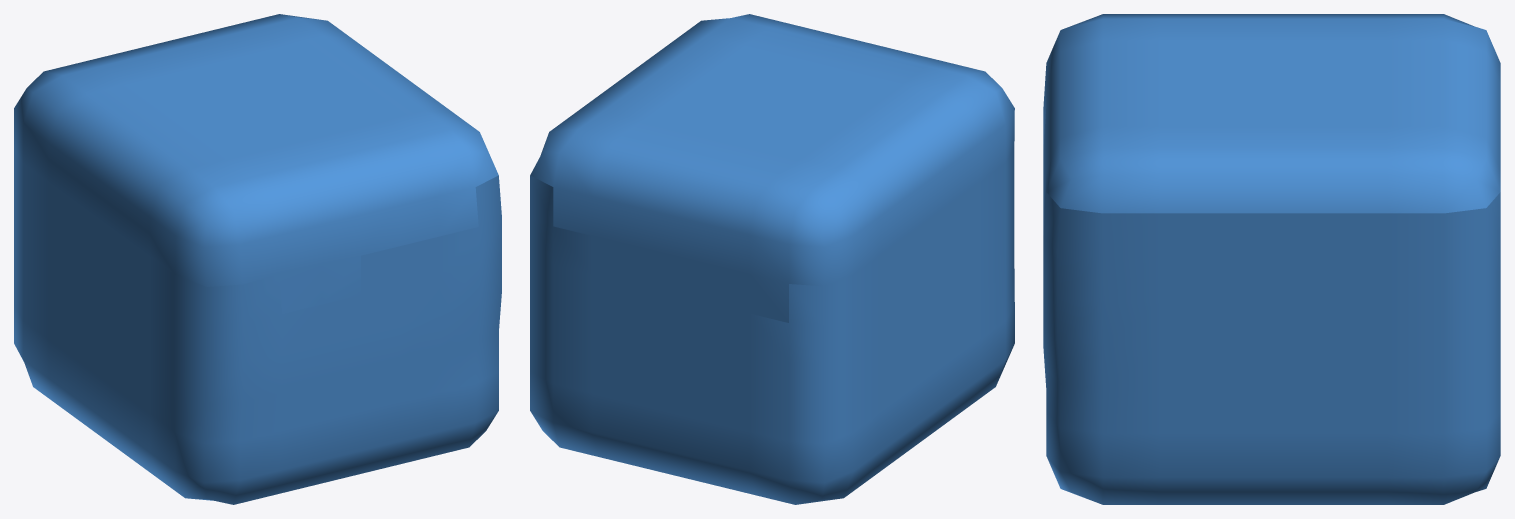
Rendered from Water_Block.fbx.
3 renders of one model, left to right at view 1: azimuth 30°, elevation 25°; view 2: azimuth 150°, elevation 25°; view 3: azimuth 270°, elevation 25°, orthographic. The views are drawn at different scales.
Visible parts, largest first — view 1: Water_Block001; view 2: Water_Block001; view 3: Water_Block001.
Part boxes in pixels (x1,y1,x2,y2): Water_Block001: [14, 14, 501, 504]; Water_Block001: [530, 14, 1014, 504]; Water_Block001: [1043, 14, 1500, 504].
Bounding box in the file's own units: 19.9 × 18.99 × 22.37.
